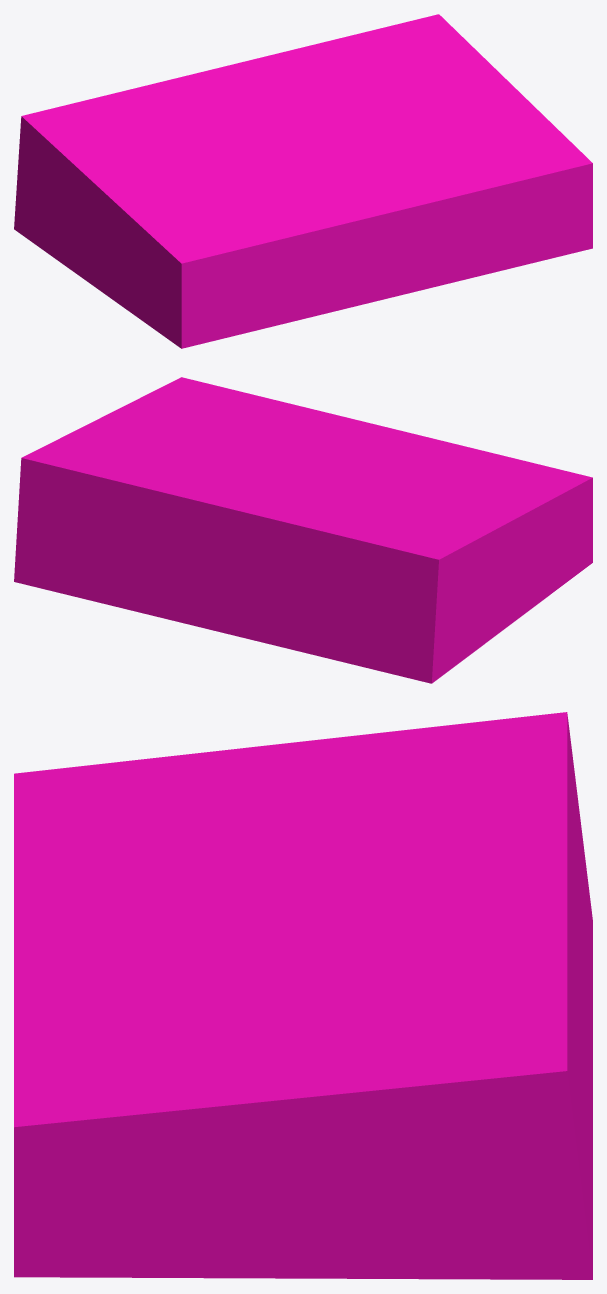
The model's file is study_pillow_3_meshCollider.fbx.
3 views of the same model, one above another, from view 1: azimuth 30°, elevation 25°; view 2: azimuth 150°, elevation 25°; view 3: azimuth 270°, elevation 25° (orthographic). The views are drawn at different scales.
Parts seen in each view (by area): view 1: study_pillow_3_meshCollider; view 2: study_pillow_3_meshCollider; view 3: study_pillow_3_meshCollider.
Part boxes in pixels (box(x1,y1,x2,y2)): study_pillow_3_meshCollider: box(14, 14, 592, 348); study_pillow_3_meshCollider: box(14, 377, 592, 683); study_pillow_3_meshCollider: box(14, 712, 592, 1279).
Bounding box in the file's own units: 40.86 × 11.09 × 27.85.
